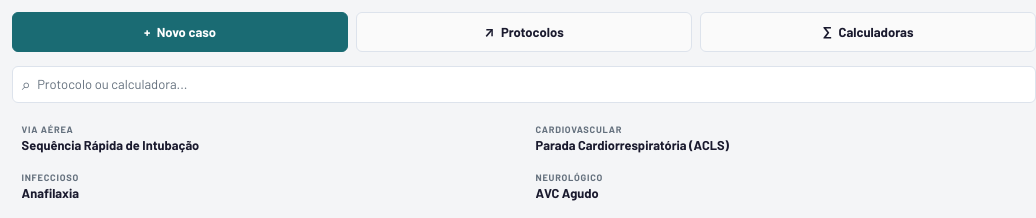
Test: PlantaoQuickActions › filtra um protocolo pela busca e mostra estado sem resultado
The width and height of the screenshot is (1036, 218).
Type "intubação" into the search field named "buscar ferramenta" at (532, 84), box [37, 67, 1026, 102]
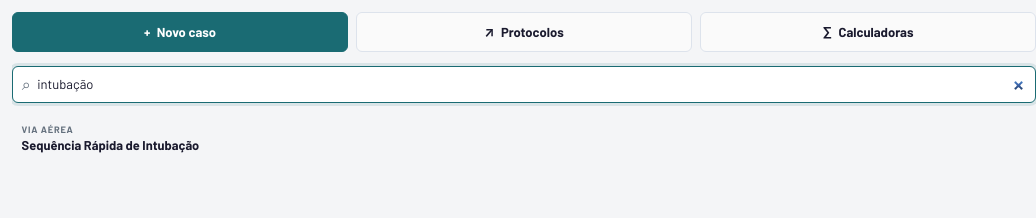
Check: the link "Via aérea Sequência Rápida de Intubação" is shown, box [22, 124, 199, 153]
Replace the text in the search field named "buscar ferramenta" with "xyz inexistente" at (532, 84), box [37, 67, 1026, 102]
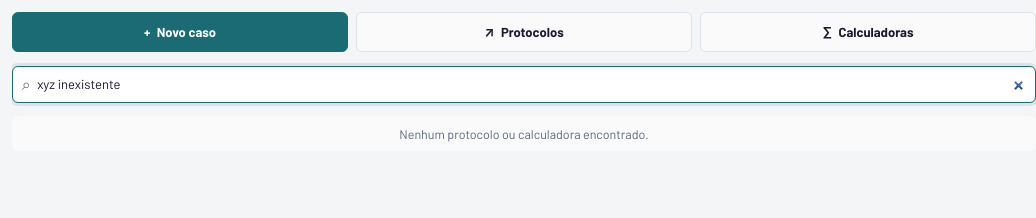
Check: the message shows "Nenhum protocolo ou calculadora", box [399, 127, 649, 141]
